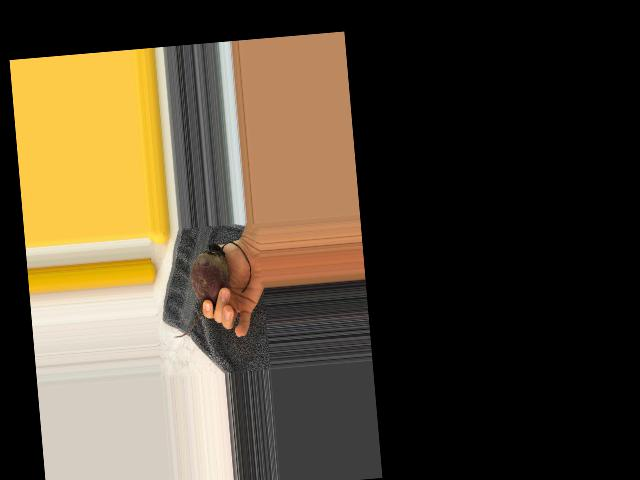beet: (167, 241, 256, 337)
